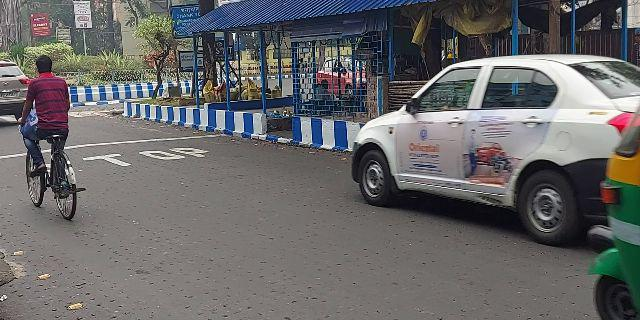Car: (346, 52, 640, 244)
Cycle: (16, 55, 91, 221)
